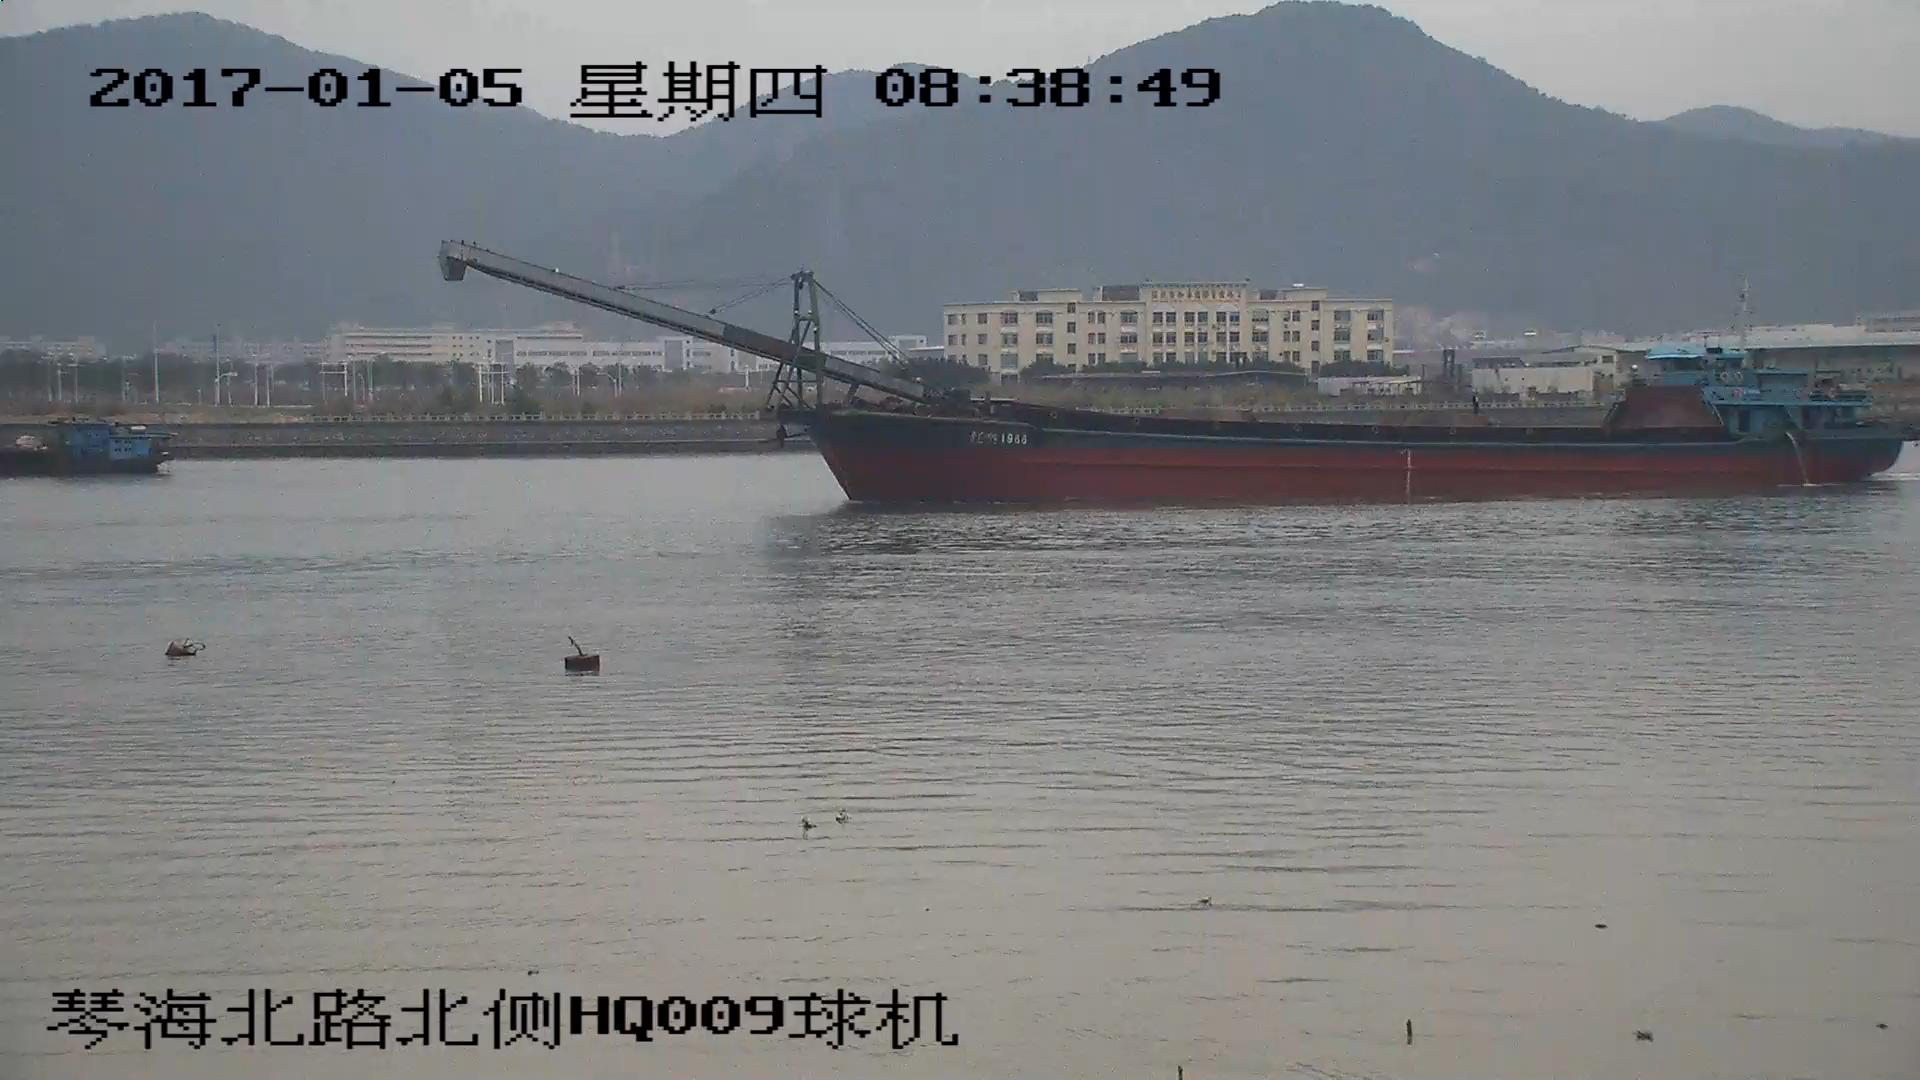bulk cargo carrier: (445, 246, 1909, 502)
